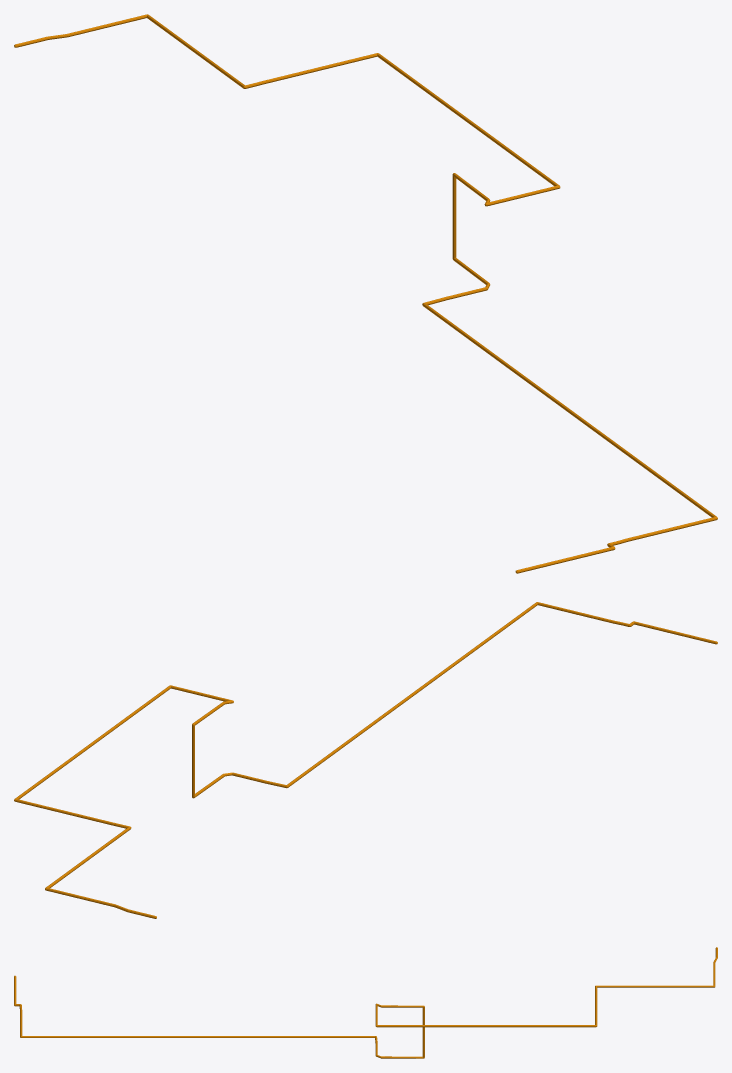
3 views of the same model, one above another, from view 1: azimuth 30°, elevation 25°; view 2: azimuth 150°, elevation 25°; view 3: azimuth 270°, elevation 25° (orthographic). The views are drawn at different scales.
Size of the model in its own units: 2131 by 520 by 6251.
